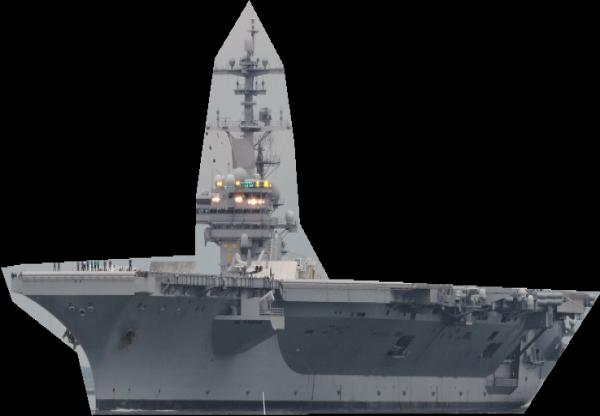Aircraft Carrier: (1, 0, 600, 416)
